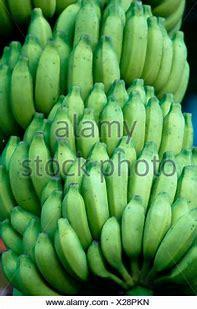banana: (8, 159, 197, 301), (14, 0, 197, 101), (11, 85, 193, 175), (108, 3, 149, 85), (80, 153, 121, 225), (29, 42, 72, 108), (151, 97, 194, 154), (57, 0, 101, 54), (67, 37, 100, 104), (119, 188, 148, 261), (49, 216, 86, 273), (94, 36, 133, 89), (123, 86, 157, 142), (115, 129, 148, 183), (158, 21, 182, 95), (13, 58, 40, 116), (98, 216, 126, 271), (67, 178, 93, 235), (149, 189, 169, 262), (140, 22, 161, 84), (25, 1, 55, 43), (76, 104, 103, 146), (49, 135, 78, 173), (105, 90, 130, 134), (27, 122, 47, 171)
